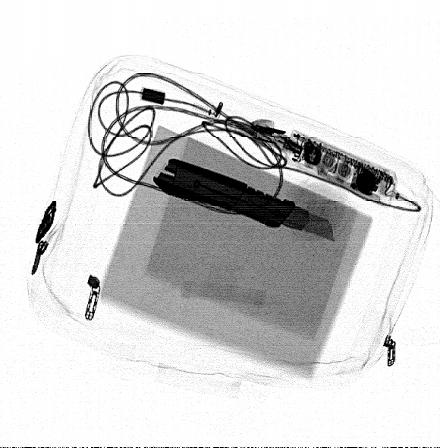Knife: (152, 158, 335, 243)
